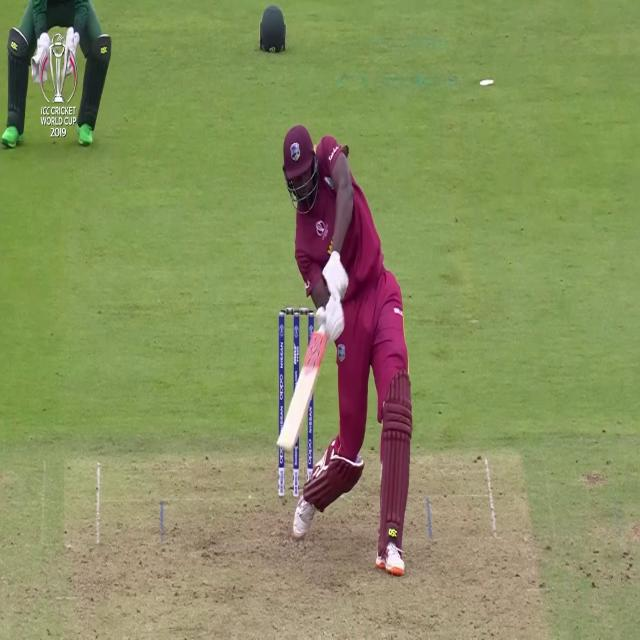ball: (314, 303, 328, 330)
